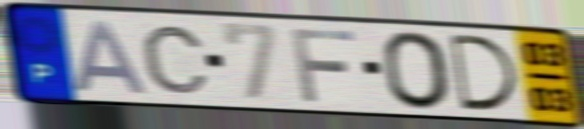7: (217, 20, 287, 105)
A: (71, 18, 152, 97)
C: (138, 23, 213, 96)
D: (445, 31, 523, 113)
F: (288, 26, 359, 105)
O: (378, 28, 455, 112)
